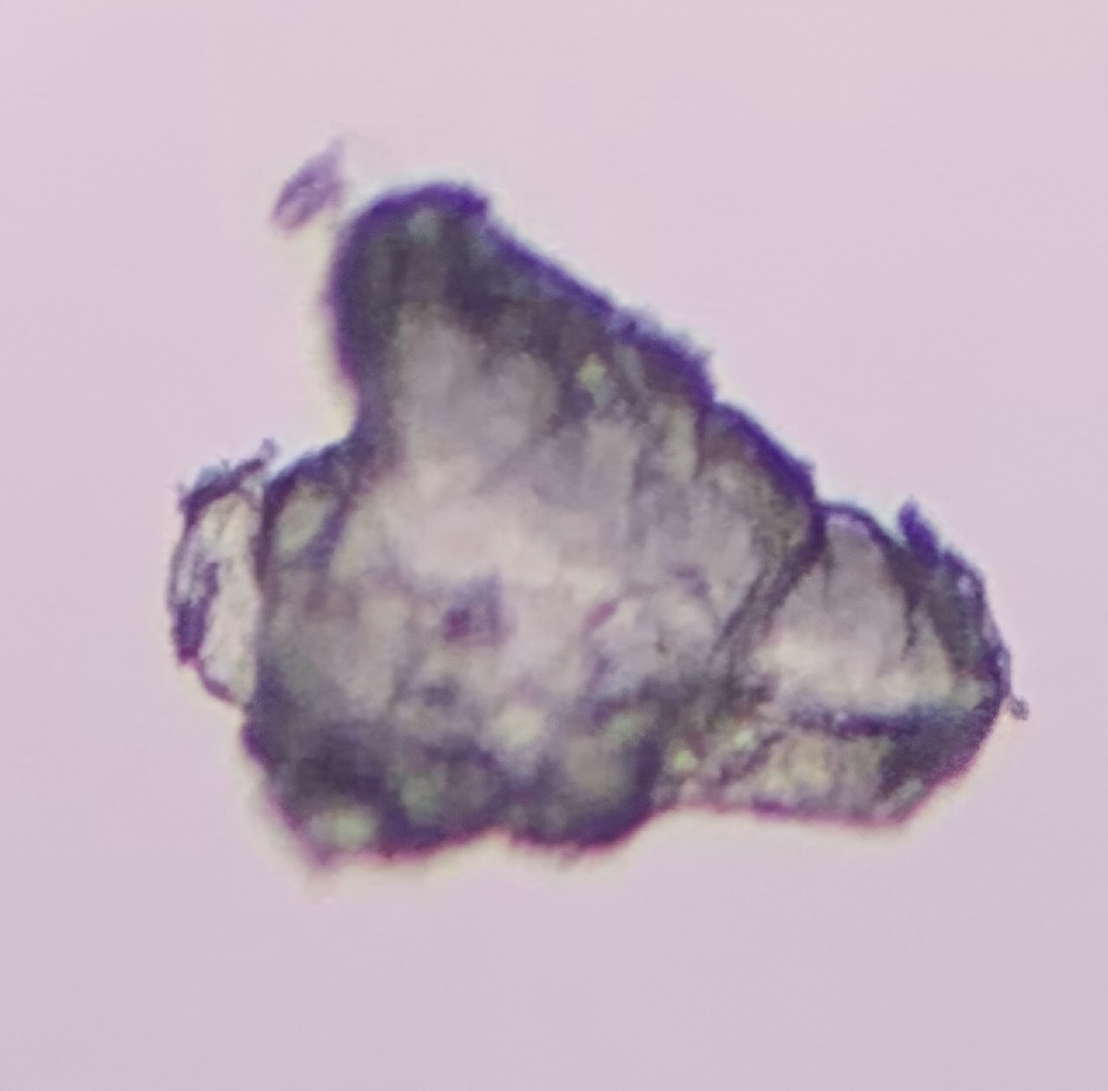microplastic: (166, 148, 1029, 870), (265, 148, 349, 231)
